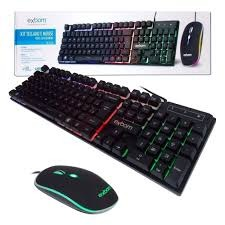keyboard: (0, 64, 190, 200)
mouse: (26, 158, 124, 218)
